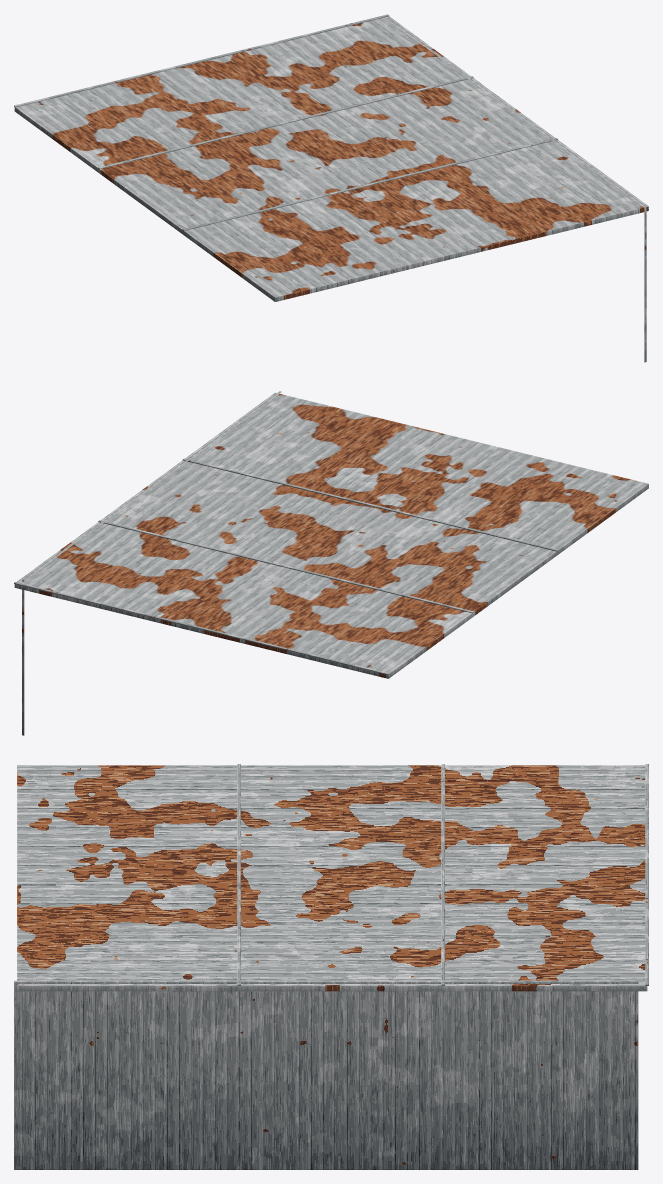
The model's file is garage_shell.glb.
3 views of the same model, one above another, from view 1: azimuth 30°, elevation 25°; view 2: azimuth 150°, elevation 25°; view 3: azimuth 270°, elevation 25° (orthographic). The views are drawn at different scales.
Parts seen in each view (by area): view 1: garage_shell; view 2: garage_shell; view 3: garage_shell.
Boxes of the visible parts, x1=… form: garage_shell: x1=14, y1=14, x2=648, y2=362; garage_shell: x1=14, y1=391, x2=648, y2=735; garage_shell: x1=14, y1=764, x2=648, y2=1169.
Bounding box in the file's own units: 8.7 × 3.45 × 10.58.
Materials: 1 (1 with a texture image).
